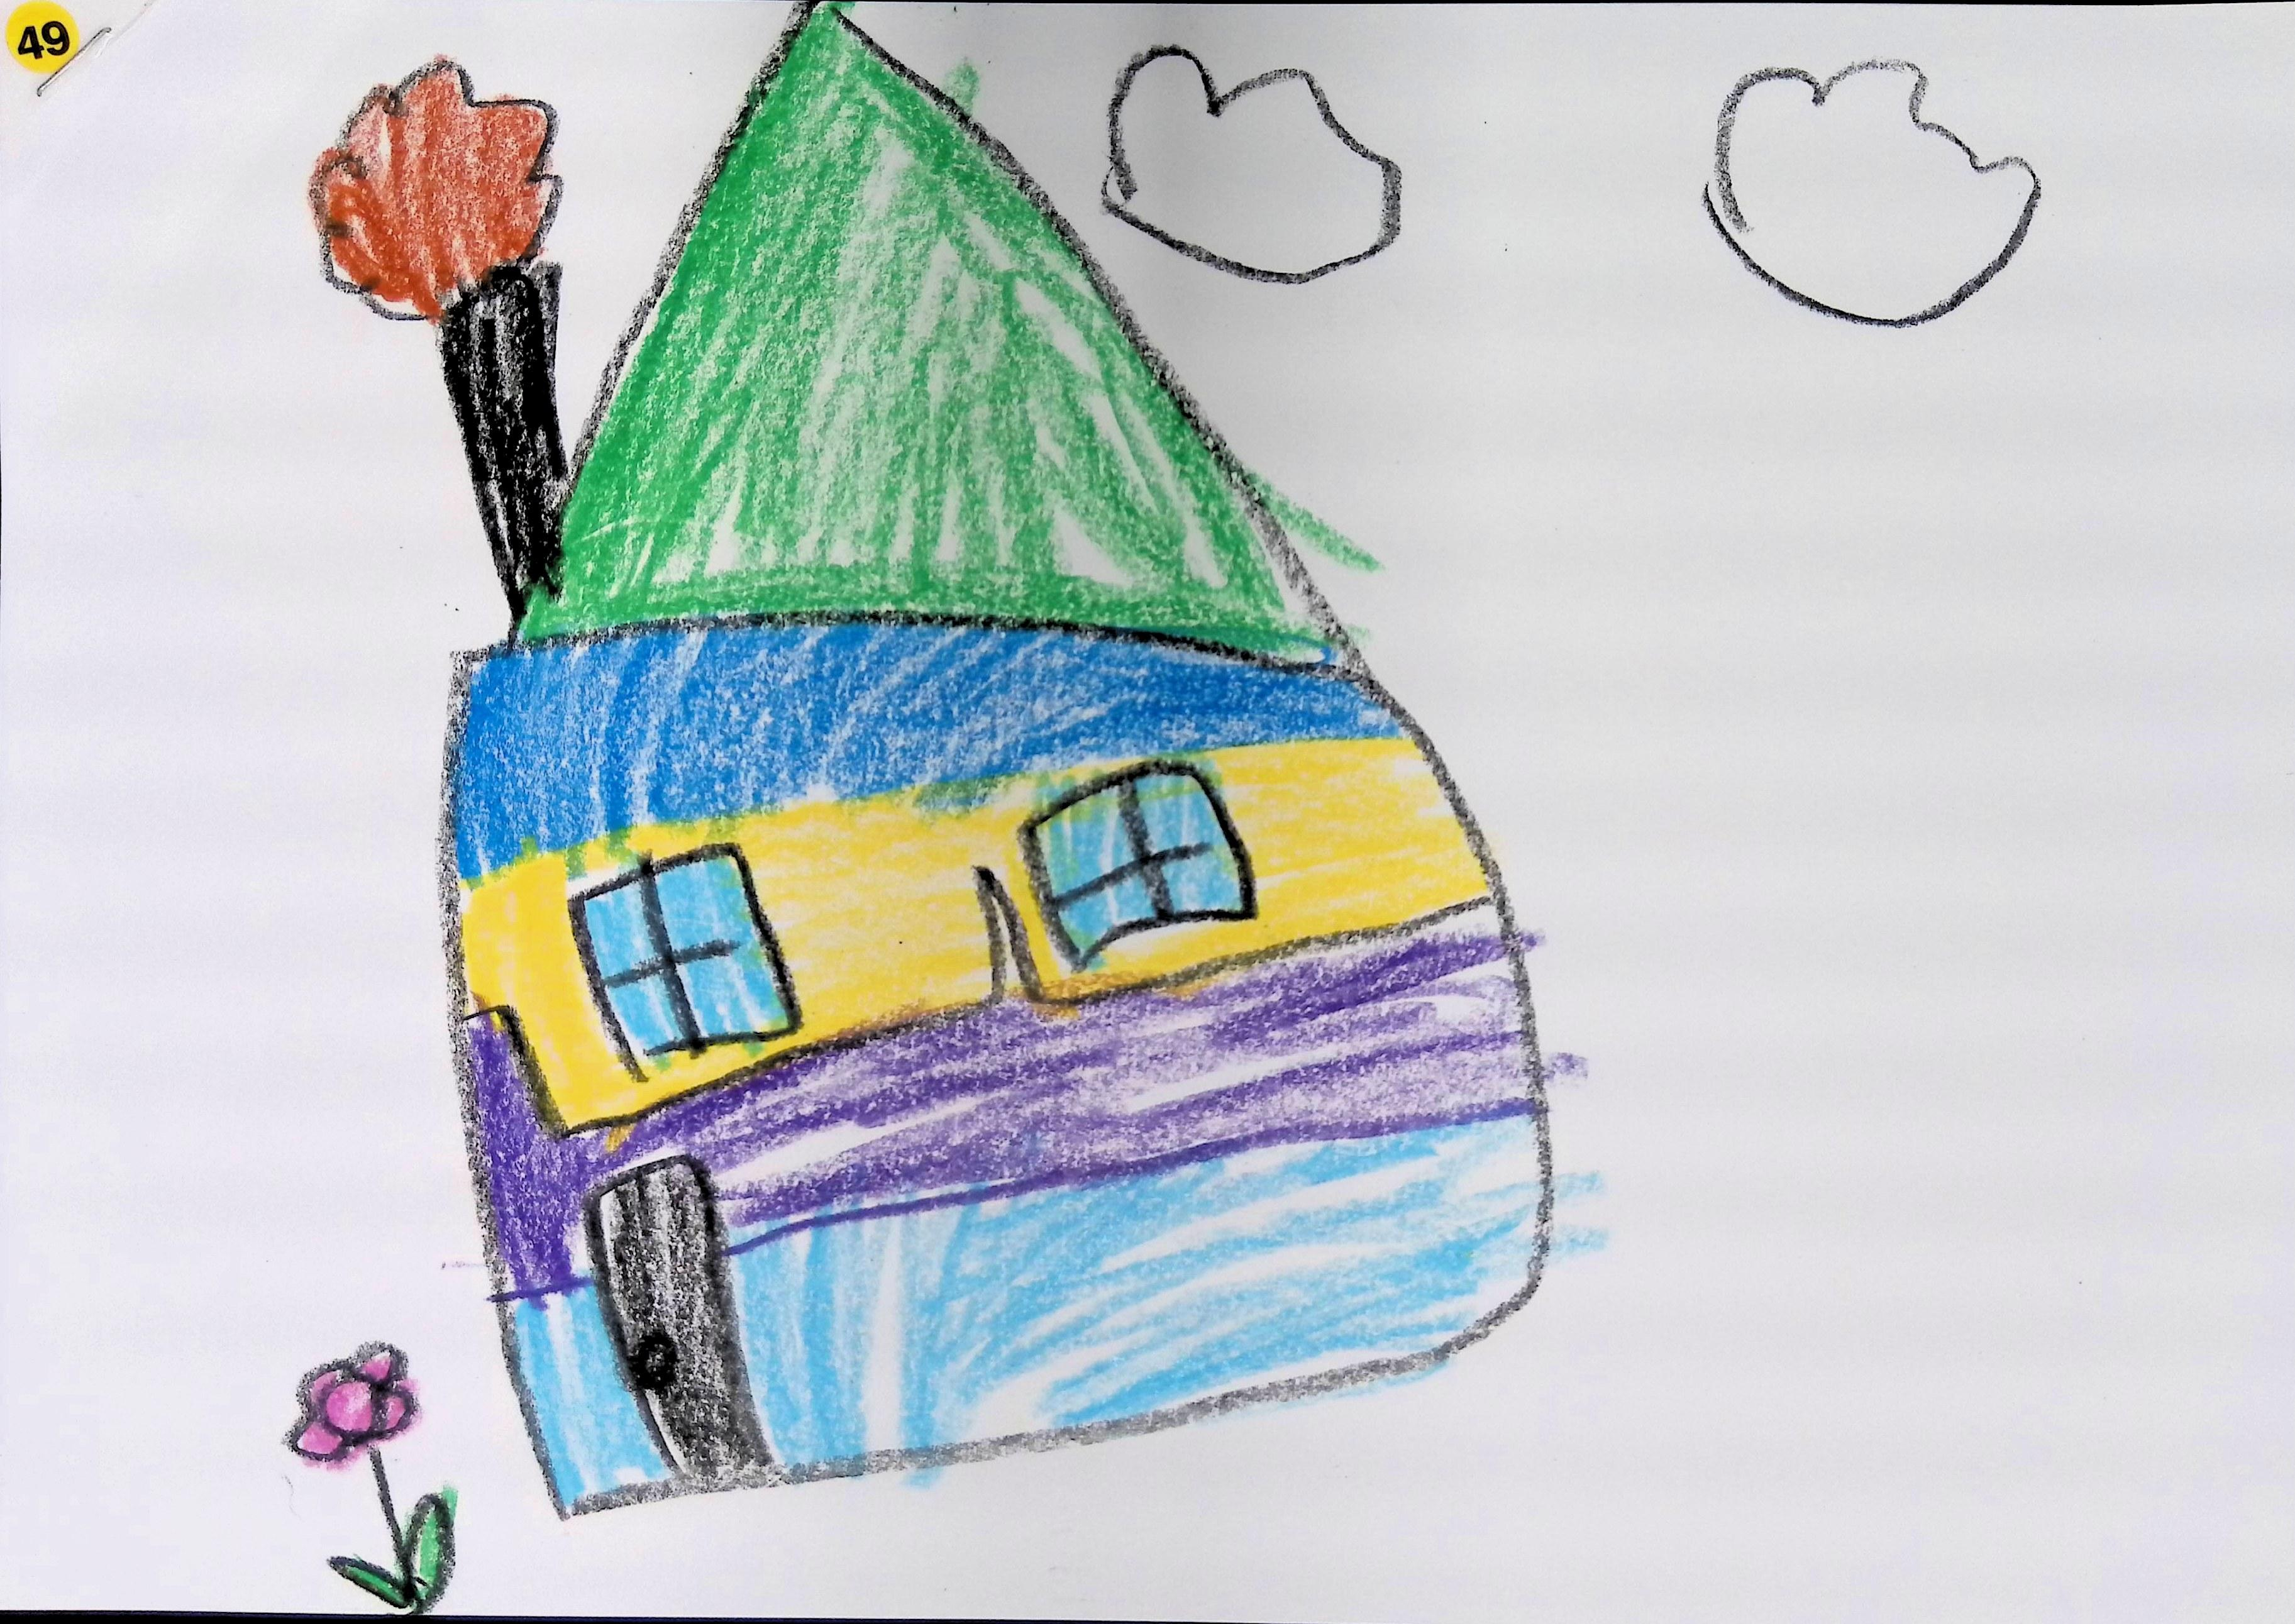chimney: (438, 257, 573, 629)
door: (583, 1158, 770, 1483)
house: (439, 0, 1553, 1536)
roof: (520, 5, 1332, 657)
wall: (446, 613, 1552, 1513)
window: (571, 845, 794, 1067), (1026, 765, 1255, 970)
